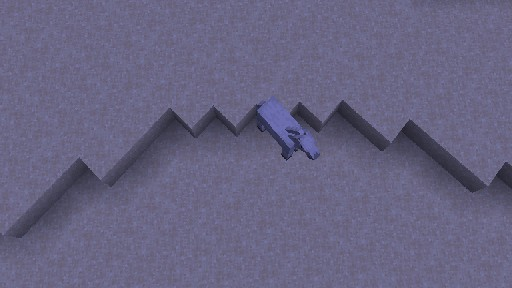horse: (252, 95, 321, 160)
